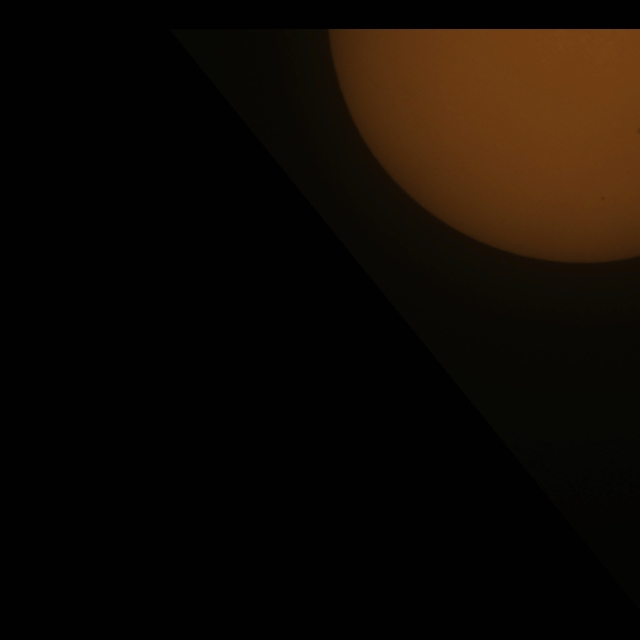sunspot: (635, 126, 640, 136), (600, 195, 606, 202)
